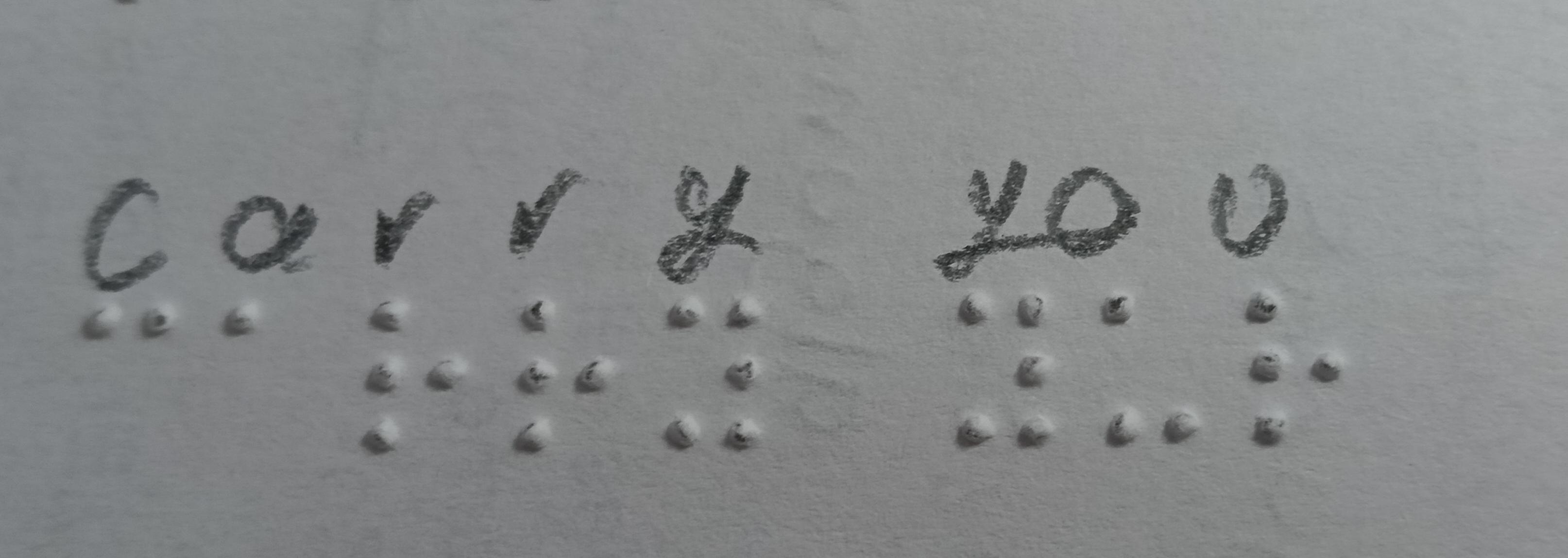a: (207, 290, 283, 353)
c: (60, 291, 193, 361)
o: (1080, 288, 1213, 450)
r: (484, 288, 627, 467), (345, 288, 478, 463)
u: (1214, 288, 1357, 453)
y: (631, 288, 798, 466), (937, 285, 1059, 458)
